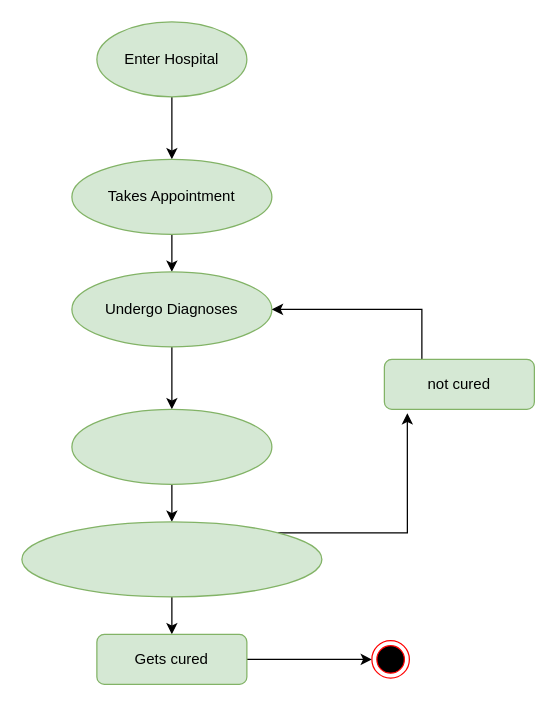
This 556x706 diagram has some shape labels left out. The box of each missing label's shape, as (x1, y1, x2, y2) in pixels:
Takes Treatment: (71, 408, 272, 484)
Undergo lab tests and buy medicines: (21, 521, 322, 597)
